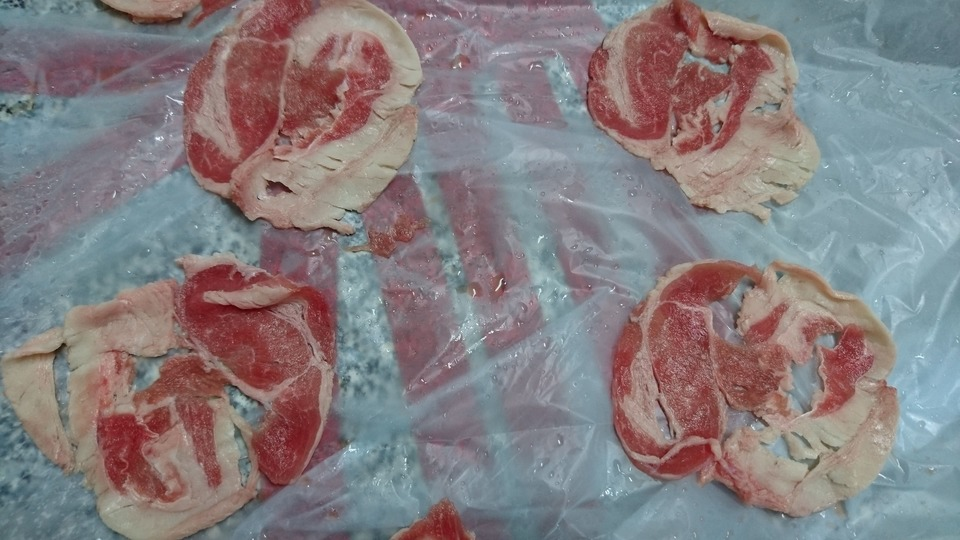restructured meat: (1, 247, 358, 540), (607, 253, 909, 519), (179, 1, 427, 238), (587, 1, 833, 218)
